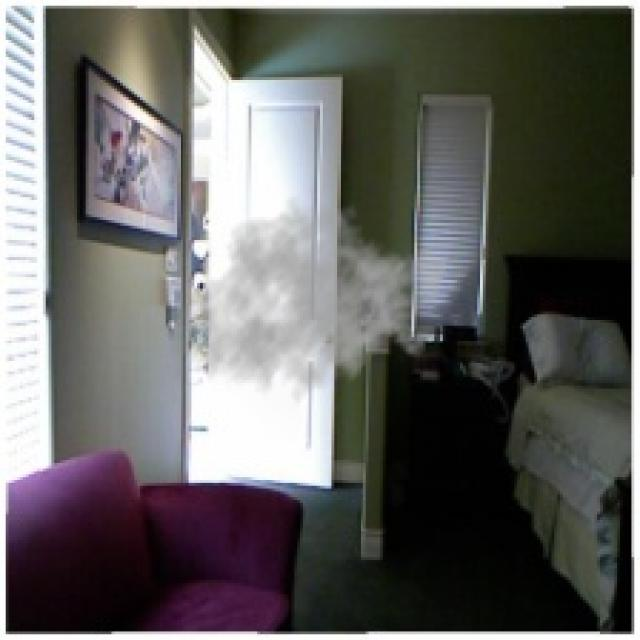smoke: (177, 194, 449, 414)
